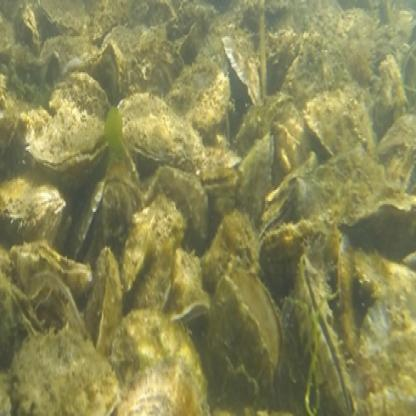Oyster- Indeterminate: (295, 250, 366, 416), (11, 329, 120, 416), (26, 73, 111, 176), (120, 91, 203, 166), (234, 267, 284, 376), (11, 239, 94, 302), (256, 177, 314, 248), (237, 134, 277, 235), (101, 176, 144, 261), (93, 40, 130, 108), (6, 283, 44, 338), (174, 359, 208, 416)
Oyster-Closed: (113, 309, 208, 416), (122, 195, 185, 318), (212, 278, 273, 395), (356, 301, 416, 416), (143, 162, 207, 258), (262, 221, 342, 293), (305, 86, 377, 158), (168, 58, 228, 131), (0, 178, 65, 245), (86, 248, 124, 360), (353, 248, 416, 314), (377, 115, 416, 193), (223, 28, 260, 102), (338, 239, 359, 353), (124, 224, 152, 292)
Oyster-Open: (200, 164, 239, 192), (176, 304, 211, 327)
